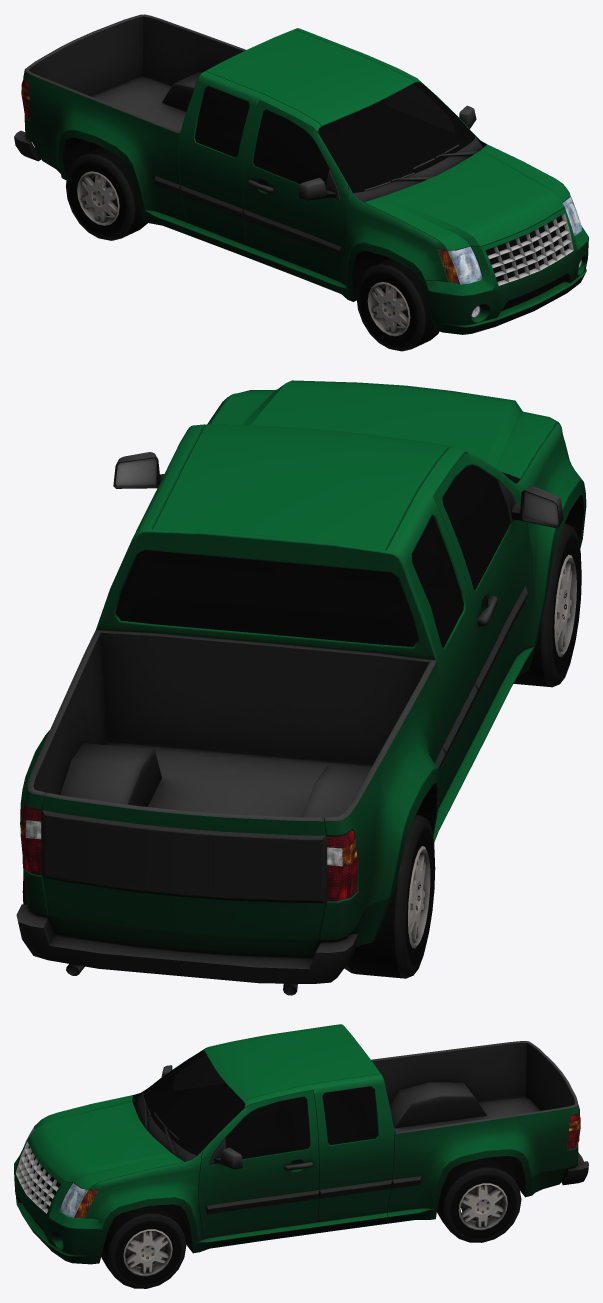
The model's file is pickup.glb.
3 renders of one model, top to bottom at view 1: azimuth 30°, elevation 25°; view 2: azimuth 150°, elevation 25°; view 3: azimuth 270°, elevation 25°, orthographic. The views are drawn at different scales.
Parts seen in each view (by area): view 1: Pickup Body, Wheel_E003, Wheel_E002; view 2: Pickup Body, Wheel_E003, Wheel_E002; view 3: Pickup Body, Wheel_E001, Wheel_E.
Boxes of the visible parts, box(x1,y1,x2,y2) form: Pickup Body: box(14, 14, 588, 334); Wheel_E003: box(66, 147, 147, 240); Wheel_E002: box(356, 258, 439, 351); Pickup Body: box(16, 380, 586, 995); Wheel_E003: box(344, 814, 435, 978); Wheel_E002: box(513, 523, 581, 687); Pickup Body: box(14, 1024, 588, 1264); Wheel_E001: box(437, 1157, 521, 1242); Wheel_E: box(101, 1205, 186, 1288).
Bounding box in the file's own units: 3.51 × 1.98 × 6.08.
Materials: 4 (3 with a texture image).
